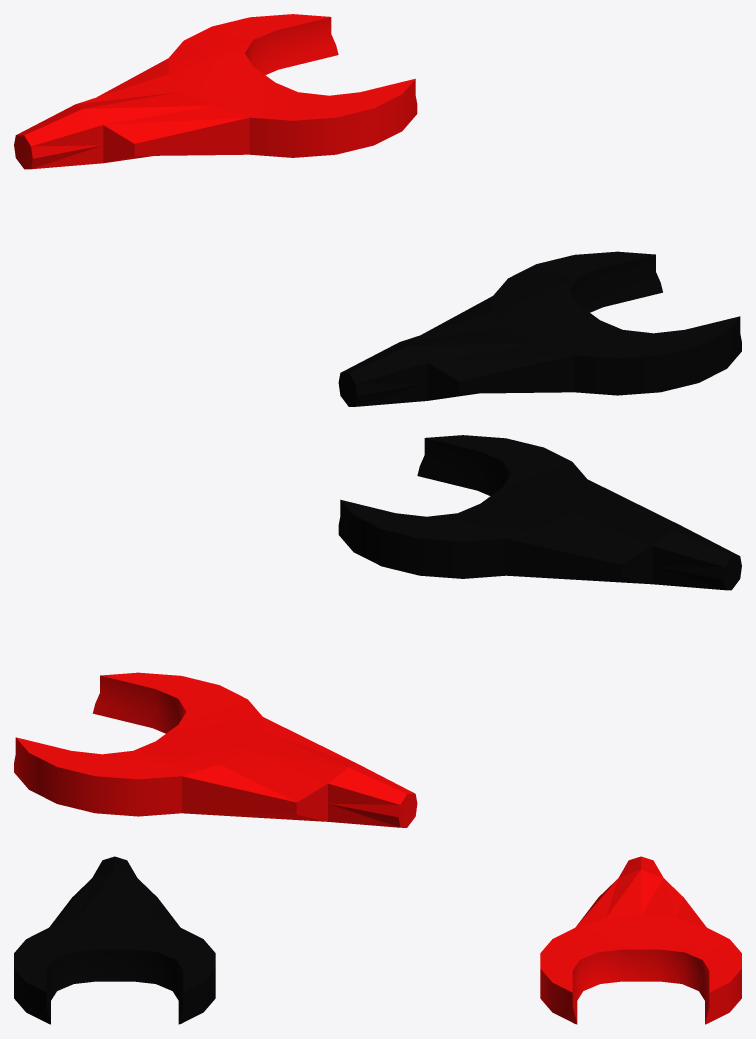
File: connector.FBX
3 views of the same model, one above another, from view 1: azimuth 30°, elevation 25°; view 2: azimuth 150°, elevation 25°; view 3: azimuth 270°, elevation 25° (orthographic). The views are drawn at different scales.
Visible parts, largest first — view 1: Cylinder015, Cylinder016; view 2: Cylinder016, Cylinder015; view 3: Cylinder015, Cylinder016.
Boxes of the visible parts, bbox=[...] form: Cylinder015: bbox=[14, 14, 417, 169]; Cylinder016: bbox=[338, 251, 741, 406]; Cylinder016: bbox=[338, 435, 741, 590]; Cylinder015: bbox=[14, 672, 417, 827]; Cylinder015: bbox=[540, 856, 741, 1024]; Cylinder016: bbox=[14, 856, 215, 1024].
Bounding box in the file's own units: 617 × 91.65 × 1353.
